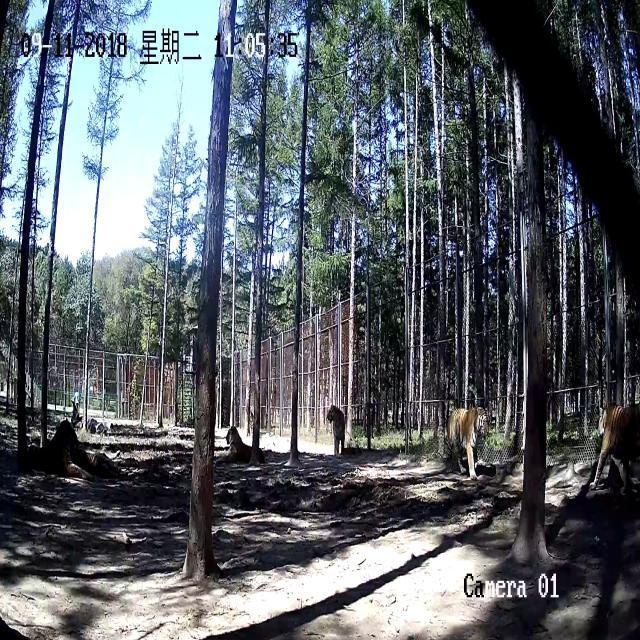Tiger: (0, 412, 81, 482), (589, 396, 640, 486), (441, 397, 490, 485), (217, 418, 277, 465), (86, 441, 136, 480), (322, 396, 352, 459)
